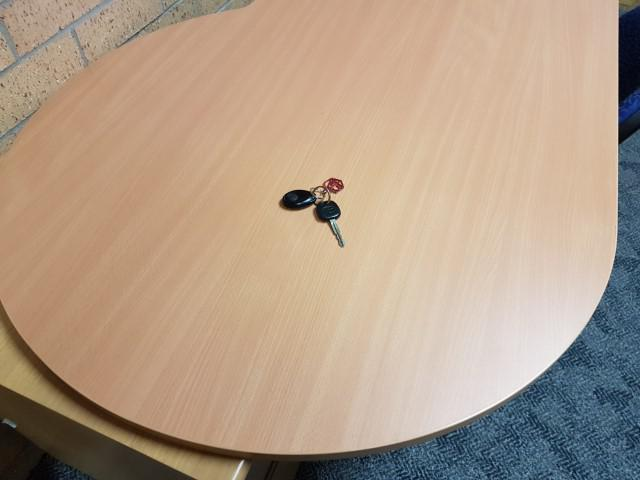key: (317, 200, 347, 247)
